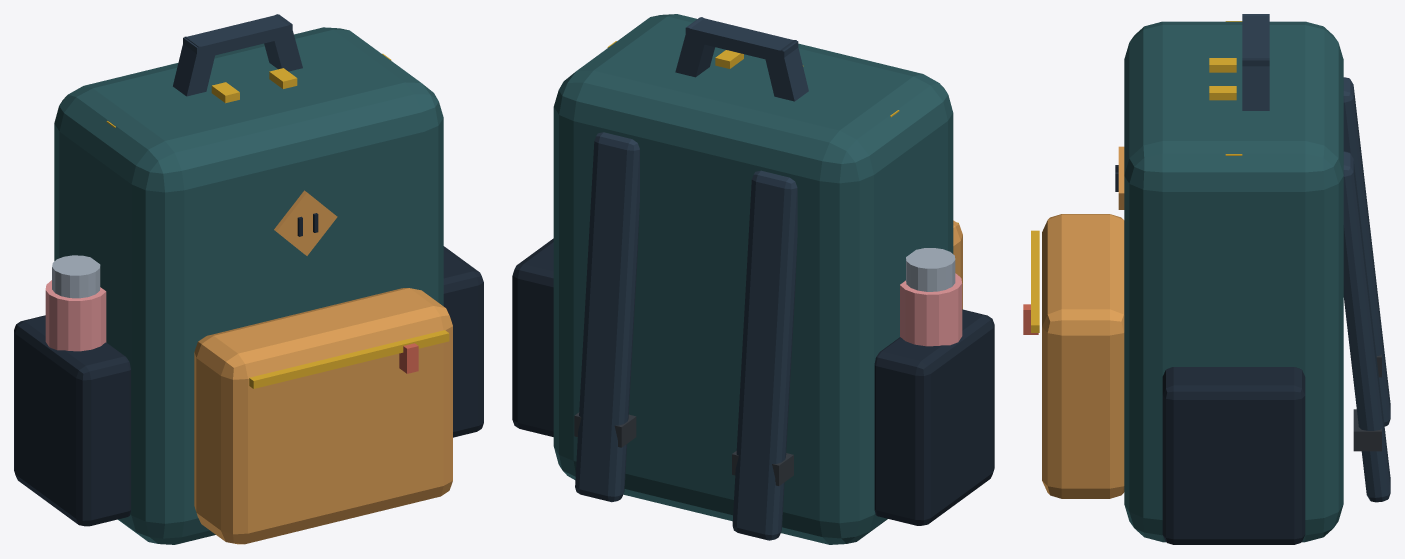
File: Collectible_SchoolBag.glb
3 views of the same model, side by side, from view 1: azimuth 30°, elevation 25°; view 2: azimuth 150°, elevation 25°; view 3: azimuth 270°, elevation 25° (orthographic). The views are drawn at different scales.
Visible parts, largest first — view 1: Collectible_SchoolBag; view 2: Collectible_SchoolBag; view 3: Collectible_SchoolBag.
Boxes of the visible parts, left/top/right/bottom form: Collectible_SchoolBag: left=14, top=14, right=483, bottom=544; Collectible_SchoolBag: left=512, top=14, right=994, bottom=544; Collectible_SchoolBag: left=1023, top=14, right=1390, bottom=544.
Bounding box in the file's own units: 0.424 × 0.4467 × 0.3349.
